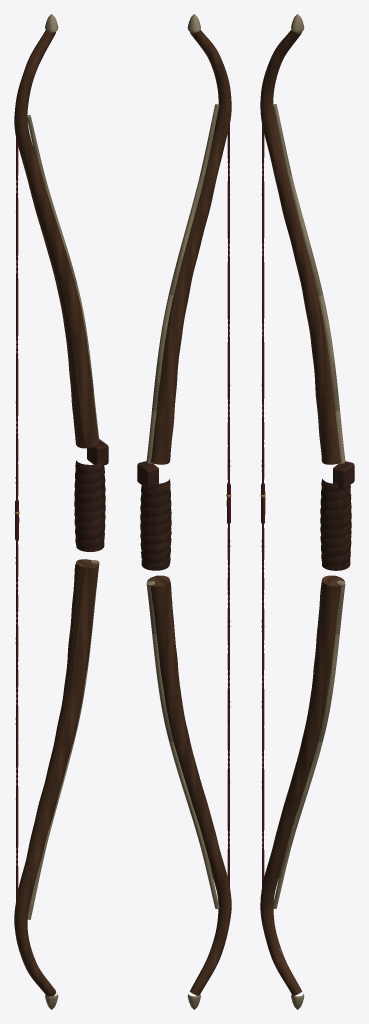
Rendered from recurve-bow.glb.
3 renders of one model, left to right at view 1: azimuth 30°, elevation 25°; view 2: azimuth 210°, elevation 25°; view 3: azimuth 330°, elevation 25°, orthographic.
Parts seen in each view (by area): view 1: wood / oiled hardwood, leather / oiled leather wrap, cord / waxed silk cord wrap, horn / polished horn and bone; view 2: wood / oiled hardwood, horn / polished horn and bone, leather / oiled leather wrap, cord / waxed silk cord wrap; view 3: wood / oiled hardwood, horn / polished horn and bone, leather / oiled leather wrap, cord / waxed silk cord wrap.
Part boxes in pixels (x1,y1,x2,y2): wood / oiled hardwood: (14,30,98,996); leather / oiled leather wrap: (74,439,108,551); cord / waxed silk cord wrap: (15,134,19,909); horn / polished horn and bone: (27,14,99,1009); wood / oiled hardwood: (147,30,231,995); horn / polished horn and bone: (146,14,219,1009); leather / oiled leather wrap: (137,461,171,570); cord / waxed silk cord wrap: (209,60,230,954); wood / oiled hardwood: (260,30,344,995); horn / polished horn and bone: (272,14,345,1009); leather / oiled leather wrap: (320,461,354,570); cord / waxed silk cord wrap: (261,60,282,954).
Bounding box in the file's own units: 0.1395 × 1.49 × 0.0428.
Materials: 8 (5 with a texture image).
